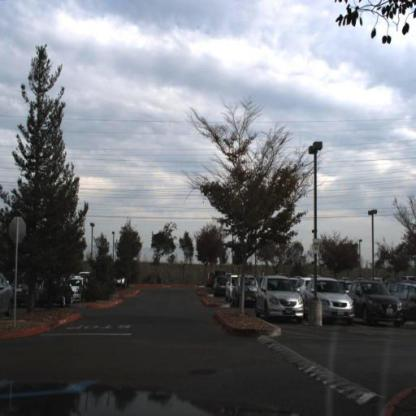car: (351, 280, 404, 326), (256, 276, 303, 323), (307, 279, 354, 325), (39, 277, 73, 309), (233, 274, 260, 307), (233, 276, 257, 309), (18, 275, 37, 312), (1, 276, 15, 324), (69, 276, 87, 304), (227, 273, 241, 301), (12, 278, 26, 305), (72, 276, 84, 304), (214, 273, 228, 297), (215, 276, 231, 297)
